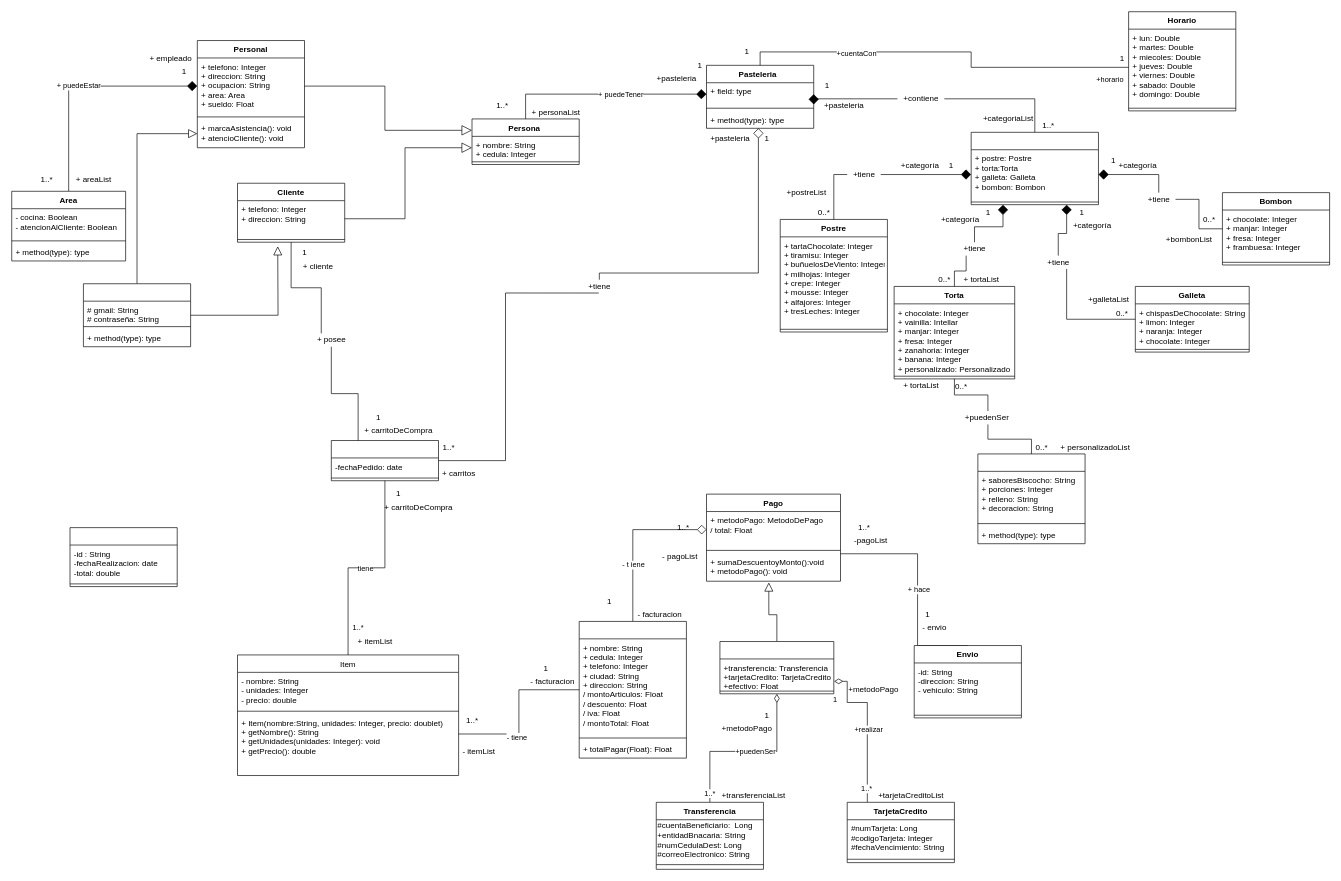
Some shapes in this 1341 by 881 pixel diagram are drawn without their labels. Each missing label, with the box of its shape:
Carrito Compra: (331, 440, 439, 481)
Categoria: (970, 132, 1098, 205)
Facturacion: (579, 621, 686, 758)
MetodoDePago: (719, 641, 834, 694)
Pedido: (69, 527, 177, 587)
Personalizado: (977, 453, 1085, 544)
Usuario: (83, 283, 191, 347)
